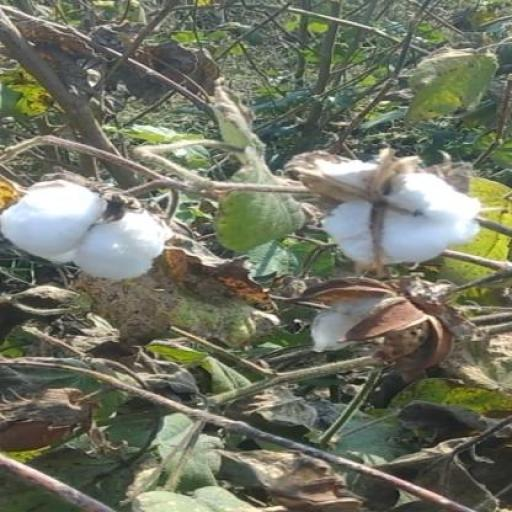cotton_ready: (303, 142, 485, 283), (9, 166, 179, 294)
